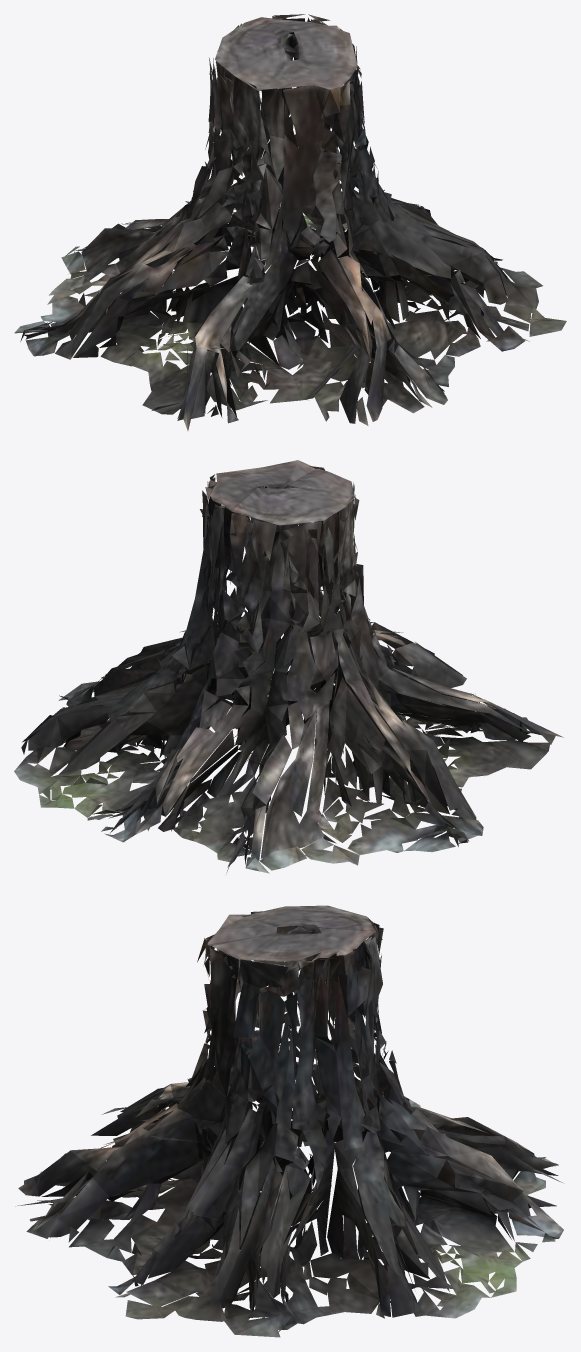
Rendered from cipreste_raizes_toco.glb.
3 views of the same model, one above another, from view 1: azimuth 30°, elevation 25°; view 2: azimuth 150°, elevation 25°; view 3: azimuth 270°, elevation 25° (orthographic). The views are drawn at different scales.
Parts seen in each view (by area): view 1: geometry_0; view 2: geometry_0; view 3: geometry_0.
Part boxes in pixels (left/top/right/bottom): geometry_0: left=14, top=14, right=566, bottom=430; geometry_0: left=14, top=460, right=563, bottom=874; geometry_0: left=15, top=905, right=564, bottom=1337.
Size of the model in its own units: 0.9911 by 0.5836 by 0.9637.
1 material, 1 textured.
